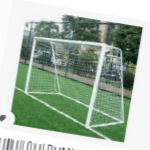goals: (24, 35, 126, 129)
